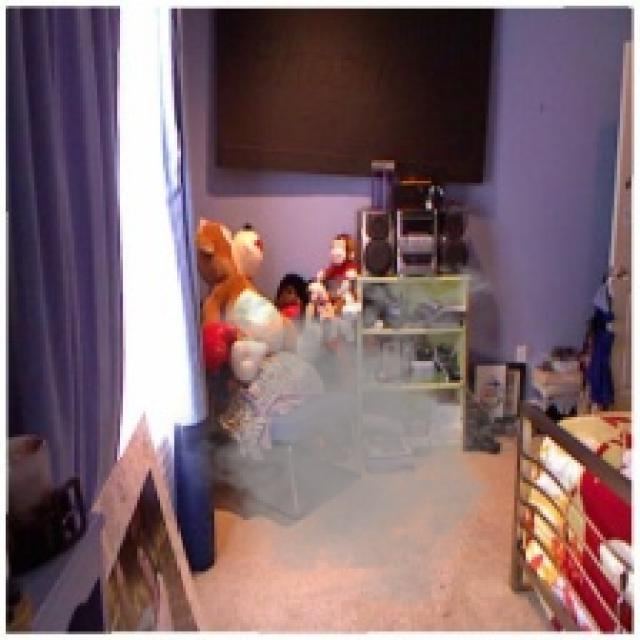Smoke: (157, 252, 552, 614)
